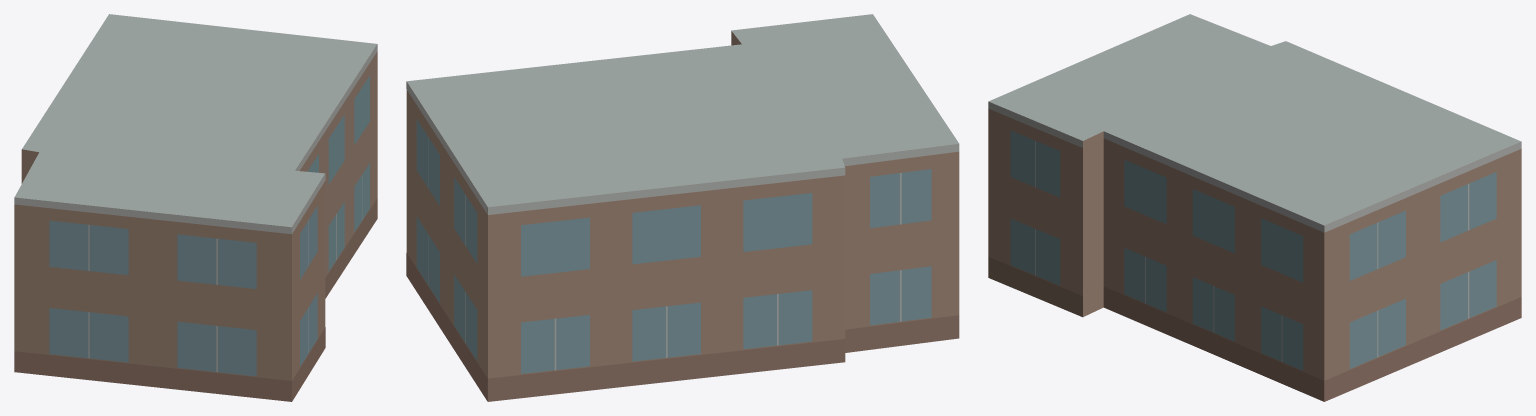
File: survey-upis-32504269.glb
The picture shows the model from 3 angles, left to right: view 1: azimuth 30°, elevation 25°; view 2: azimuth 150°, elevation 25°; view 3: azimuth 270°, elevation 25°; orthographic projection. The views are drawn at different scales.
Parts seen in each view (by area): view 1: survey-upis-32504269.tmp; view 2: survey-upis-32504269.tmp; view 3: survey-upis-32504269.tmp.
Boxes of the visible parts, left/top/right/bottom form: survey-upis-32504269.tmp: left=14, top=14, right=377, bottom=401; survey-upis-32504269.tmp: left=406, top=14, right=959, bottom=401; survey-upis-32504269.tmp: left=988, top=14, right=1521, bottom=401.
Bounding box in the file's own units: 15.72 × 6.1 × 16.74.
